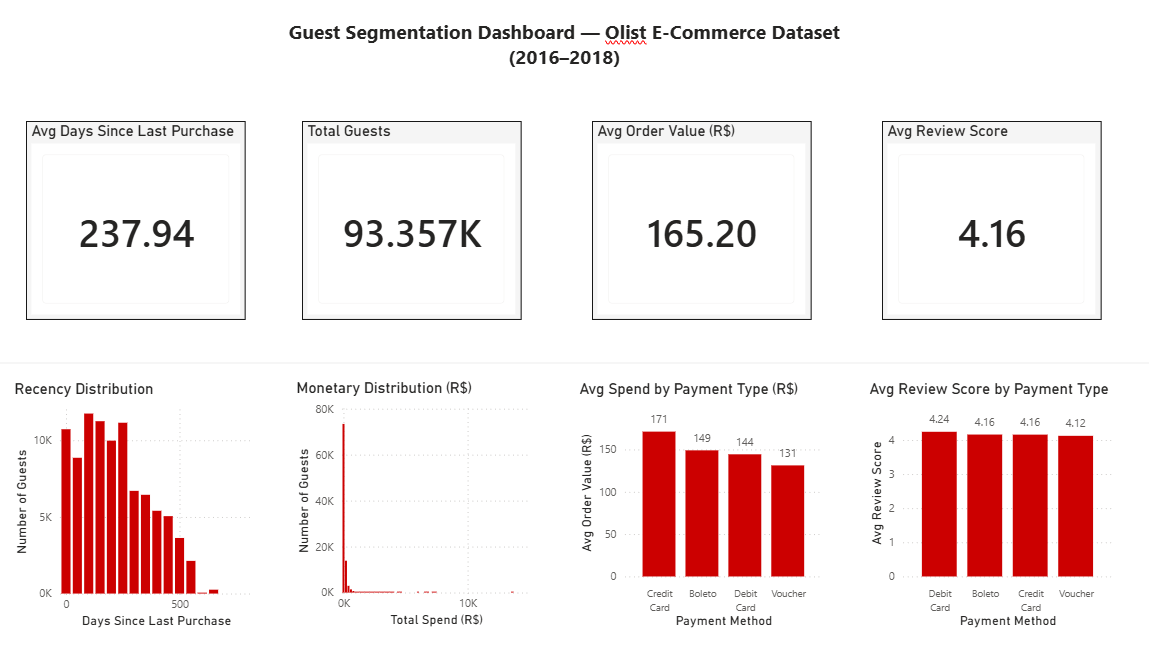

What the dashboard file says about the page in this screenshot:
{"tool":"powerbi","page":{"name":"Guest Segmentation Dashboard","canvas":[1280,720],"ordinal":0},"visuals":[{"type":"cardVisual","title":"Avg Days Since Last Purchase","fields":{"Data":["Avg(rfm_plus_table.Recency)"]},"box":[30.4,134.3,244.5,221.2],"z":0},{"type":"cardVisual","title":"Total Guests","fields":{"Data":["CountNonNull(rfm_plus_table.Frequency)"]},"box":[336.7,134.3,243.6,221.2],"z":1},{"type":"cardVisual","title":"Avg Order Value (R$)","fields":{"Data":["Avg(rfm_plus_table.Monetary)"]},"box":[659.1,134.3,243.6,221.2],"z":2},{"type":"cardVisual","title":"Avg Review Score","fields":{"Data":["Avg(rfm_plus_table.Avg_Review)"]},"box":[981.5,134.3,243.6,221.2],"z":3},{"type":"clusteredColumnChart","title":"Recency Distribution","fields":{"Y":["CountNonNull(rfm_plus_table.Recency)"],"Category":["rfm_plus_table.Recency (bins)"]},"box":[12.5,421.8,280.3,280.3],"z":4},{"type":"clusteredColumnChart","title":"Monetary Distribution (R$)","fields":{"Category":["rfm_plus_table.Monetary (bins)"],"Y":["CountNonNull(rfm_plus_table.Monetary)"]},"box":[325.1,420.9,280.3,280.3],"z":5},{"type":"clusteredColumnChart","title":"Avg Spend by Payment Type (R$)","fields":{"Category":["rfm_plus_table.Payment_Type"],"Y":["Avg(rfm_plus_table.Monetary)"]},"box":[640.3,421.8,280.3,280.3],"z":6},{"type":"clusteredColumnChart","title":"Avg Review Score by Payment Type","fields":{"Category":["rfm_plus_table.Payment_Type"],"Y":["Avg(rfm_plus_table.Avg_Review)"]},"box":[962.7,421.8,280.3,280.3],"z":7},{"type":"textbox","box":[292.8,15.2,669.9,75.2],"z":8},{"type":"shape","box":[0,253.4,1279.7,300],"z":9}]}

Visuals, with their boxes in screenshot pixels (x1, y1, x2, y2), scaled from the page's 1280x720 canvas onto the 1149x647 screenshot:
"Avg Days Since Last Purchase" cardVisual: bbox=[27, 121, 247, 319]
"Total Guests" cardVisual: bbox=[302, 121, 521, 319]
"Avg Order Value (R$)" cardVisual: bbox=[592, 121, 810, 319]
"Avg Review Score" cardVisual: bbox=[881, 121, 1100, 319]
"Recency Distribution" clusteredColumnChart: bbox=[11, 379, 263, 631]
"Monetary Distribution (R$)" clusteredColumnChart: bbox=[292, 378, 543, 630]
"Avg Spend by Payment Type (R$)" clusteredColumnChart: bbox=[575, 379, 826, 631]
"Avg Review Score by Payment Type" clusteredColumnChart: bbox=[864, 379, 1116, 631]
textbox: bbox=[263, 14, 864, 81]
shape: bbox=[0, 228, 1148, 497]
